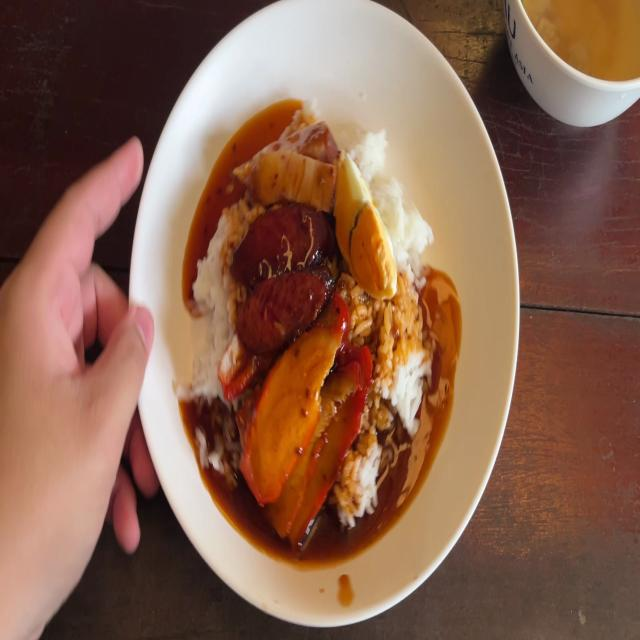red_pork_and_crispy_pork: (343, 150, 386, 307)
stir_fried_basil: (230, 216, 331, 331)
